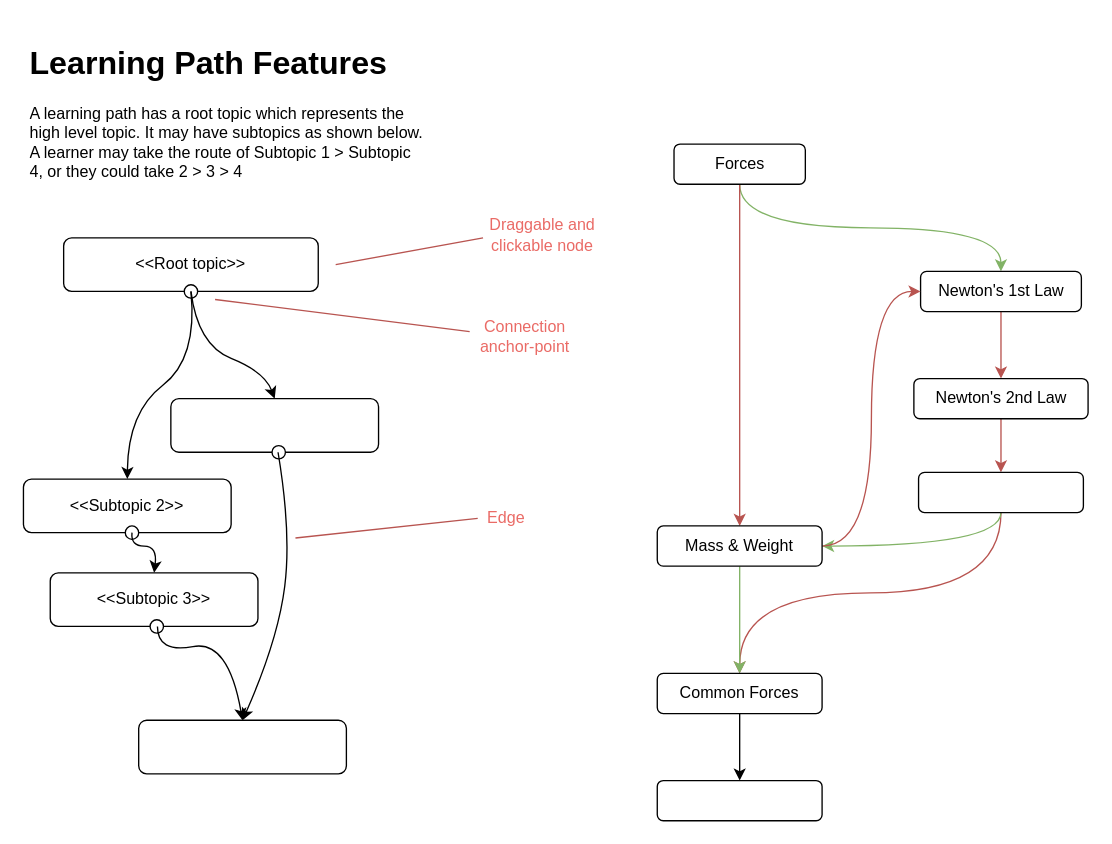
The diagram is 1112 pixels wide and 844 high, and some of its shapes have lost their labels. The box of each missing label's shape, as (x1, y1, x2, y2) in pixels:
<<Subtopic 1>>: (170, 397, 379, 452)
<<Subtopic 4>>: (137, 719, 346, 774)
FBD Diagrams: (656, 779, 822, 821)
Newton's 3rd Law: (917, 471, 1083, 513)
